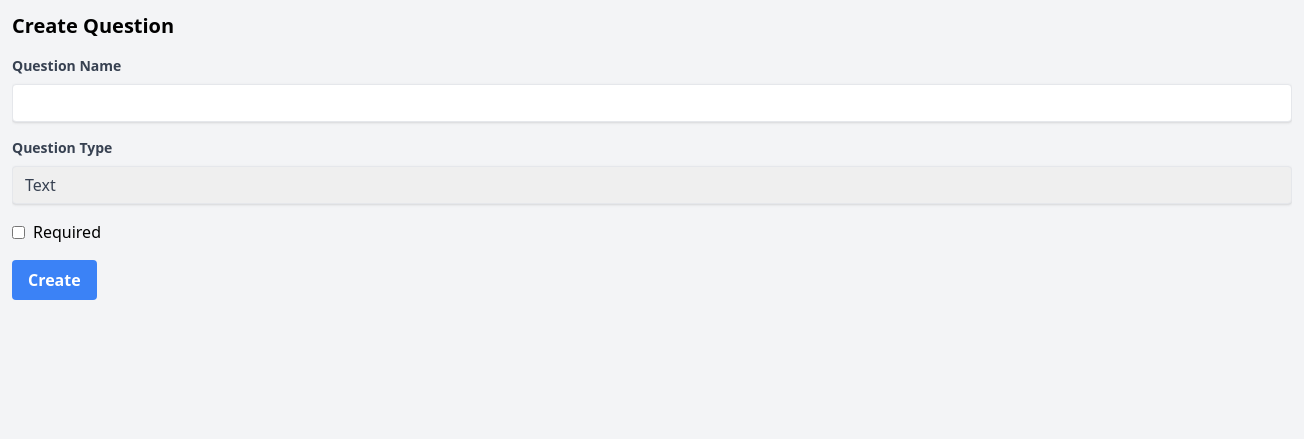
Scenario: InputCreator Component › handles adding and removing options for select type
Select "Select" in the dropdown labelled "Question Type" at (652, 185), box [12,166,1292,204]
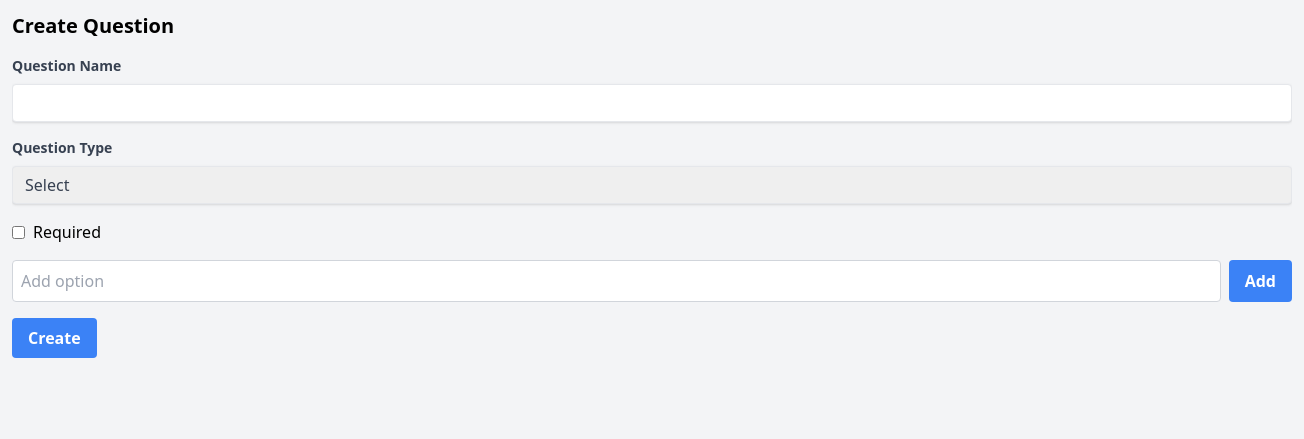
Type "New Option" into the field with placeholder "Add option" at (616, 281), box [12,260,1221,302]
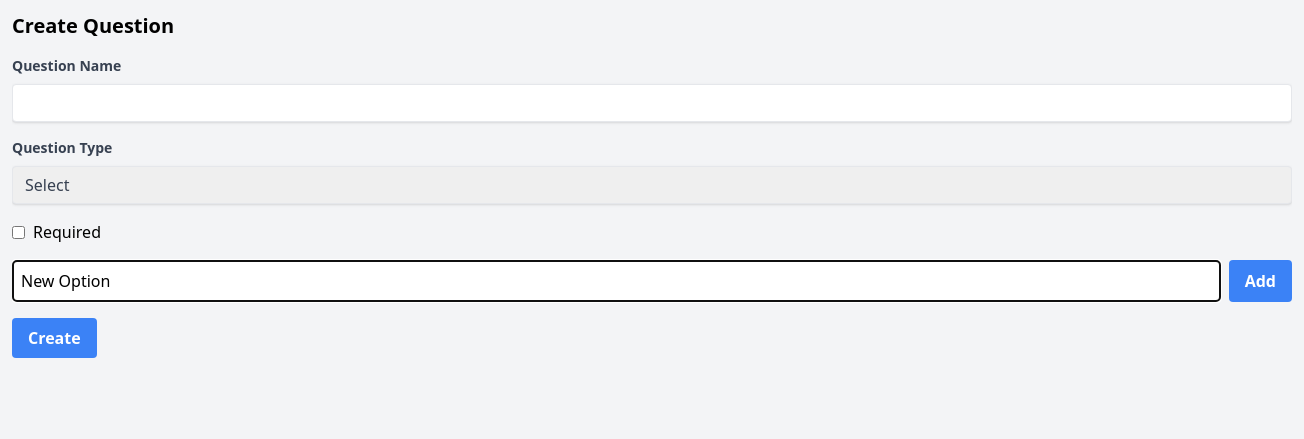
Click the button "Add" at (1260, 281), box [1229,260,1292,302]
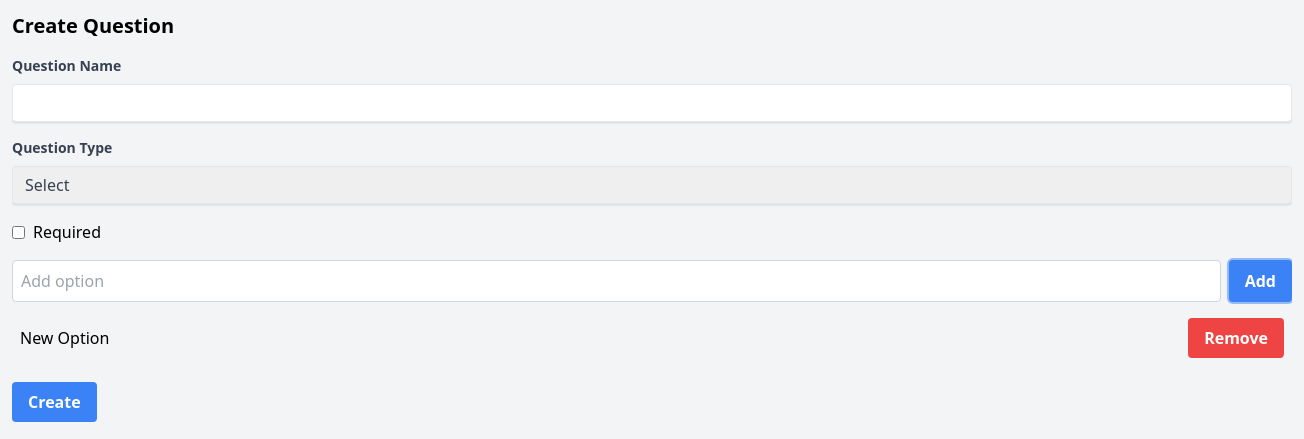
Result: the text "New Option" is shown at [20,326,109,350]
Click the button "Remove" at (1236, 338), box [1188,318,1284,358]
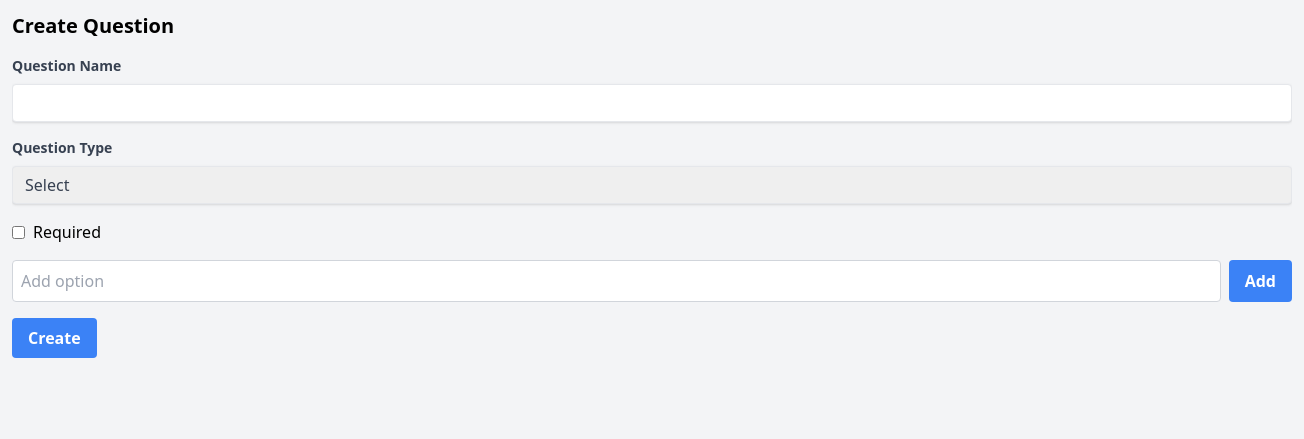
Result: the text "New Option" is gone
